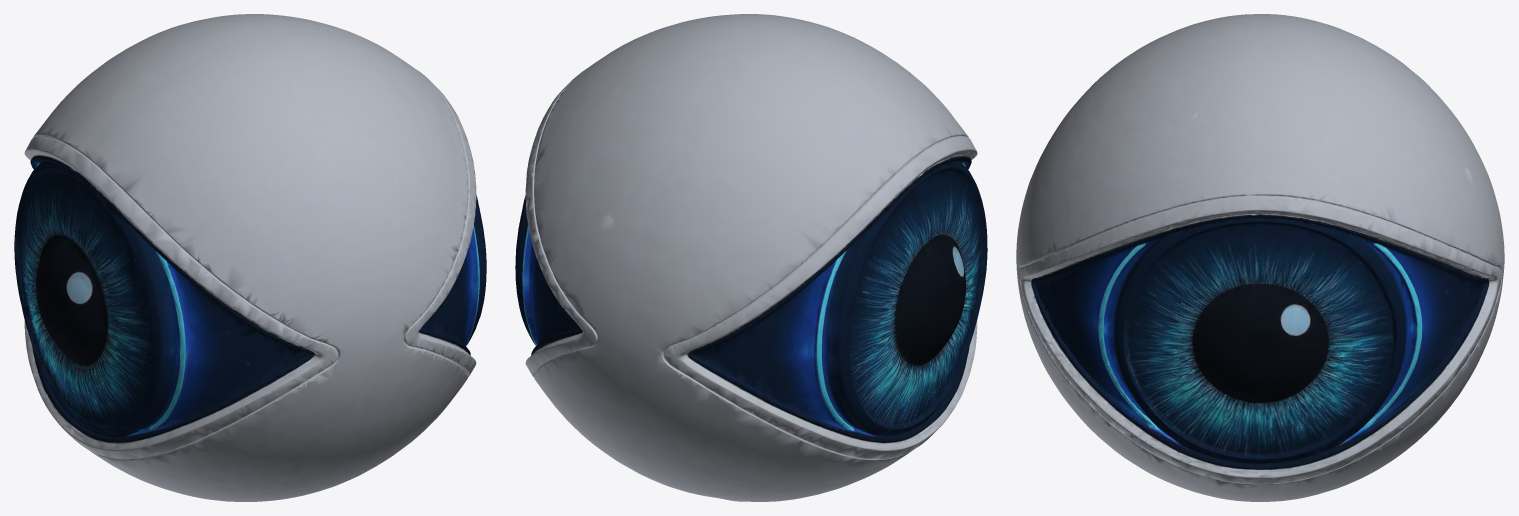
The model's file is visimove-eye.glb.
3 renders of one model, left to right at view 1: azimuth 30°, elevation 25°; view 2: azimuth 150°, elevation 25°; view 3: azimuth 270°, elevation 25°, orthographic.
Visible parts, largest first — view 1: tripo_node_4c307919-7dbd-424a-b402-d194c6210ffa; view 2: tripo_node_4c307919-7dbd-424a-b402-d194c6210ffa; view 3: tripo_node_4c307919-7dbd-424a-b402-d194c6210ffa.
Boxes of the visible parts, x1,y1,x2,y2 form: tripo_node_4c307919-7dbd-424a-b402-d194c6210ffa: (14, 14, 486, 501); tripo_node_4c307919-7dbd-424a-b402-d194c6210ffa: (515, 14, 987, 501); tripo_node_4c307919-7dbd-424a-b402-d194c6210ffa: (1016, 14, 1504, 501).
Bounding box in the file's own units: 0.9325 × 0.9966 × 1.
1 material, 1 textured.
